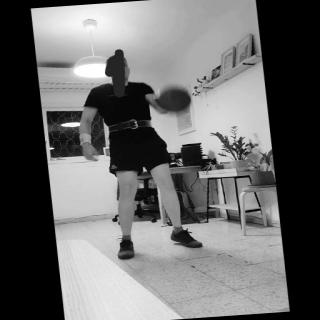kettlebell: (149, 81, 201, 119)
